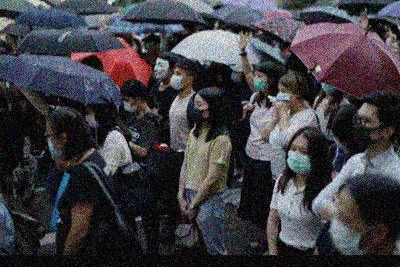with_mask: (327, 207, 366, 255), (351, 112, 380, 146), (286, 142, 312, 175), (44, 130, 60, 160), (190, 100, 208, 123), (151, 60, 168, 82), (276, 87, 293, 107), (169, 70, 185, 91), (252, 72, 267, 93), (84, 108, 98, 129), (121, 96, 136, 113)
